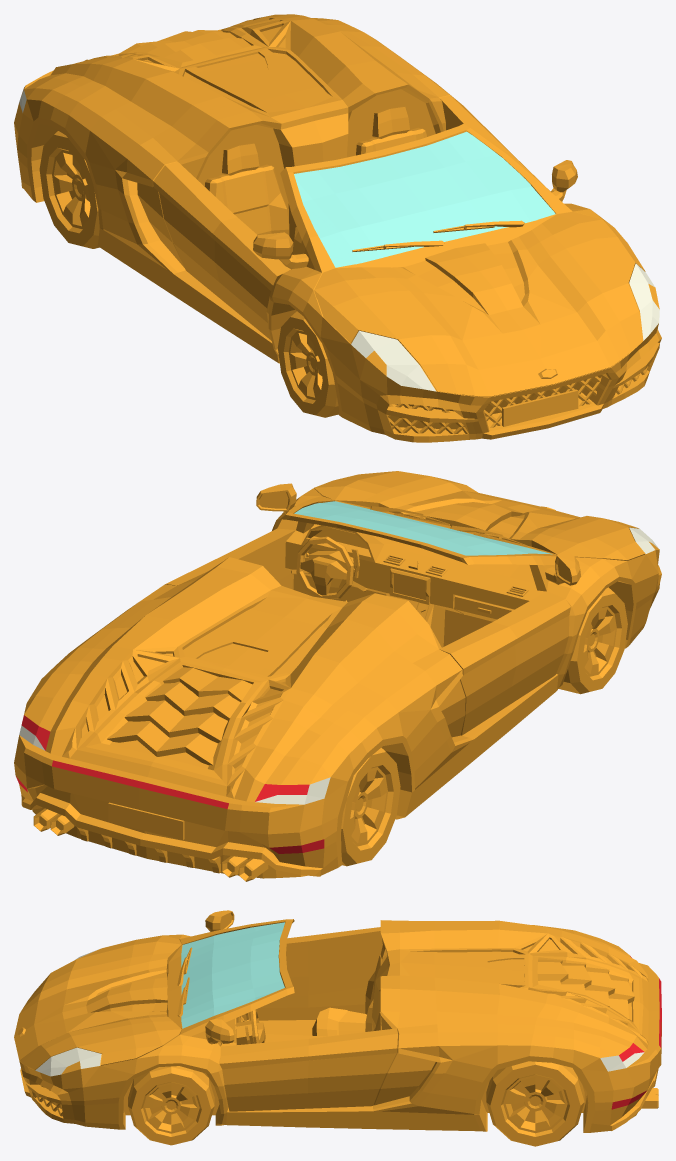
The model's file is SM_Car_Roadster_Cabrio_Modern.fbx.
The picture shows the model from 3 angles, top to bottom: view 1: azimuth 30°, elevation 25°; view 2: azimuth 150°, elevation 25°; view 3: azimuth 270°, elevation 25°; orthographic projection. The views are drawn at different scales.
Parts seen in each view (by area): view 1: roadster-cabrio-modern-base, roadster-cabrio-modern-trunk, roadster-cabrio-modern-door-right, roadster-cabrio-modern-wheel-rba, roadster-cabrio-modern-wheel-rfr, roadster-cabrio-modern-door-left; view 2: roadster-cabrio-modern-base, roadster-cabrio-modern-trunk, roadster-cabrio-modern-door-right, roadster-cabrio-modern-wheel-rba, roadster-cabrio-modern-wheel-rfr, roadster-cabrio-modern-door-left, roadster-cabrio-modern-steering-wheel; view 3: roadster-cabrio-modern-base, roadster-cabrio-modern-trunk, roadster-cabrio-modern-door-left, roadster-cabrio-modern-wheel-lba, roadster-cabrio-modern-door-right, roadster-cabrio-modern-wheel-lfr, roadster-cabrio-modern-steering-wheel.
Boxes of the visible parts, <box> form: roadster-cabrio-modern-base: <box>14,14,661,442</box>; roadster-cabrio-modern-trunk: <box>314,211,645,396</box>; roadster-cabrio-modern-door-right: <box>153,161,290,340</box>; roadster-cabrio-modern-wheel-rba: <box>39,131,99,248</box>; roadster-cabrio-modern-wheel-rfr: <box>277,311,338,417</box>; roadster-cabrio-modern-door-left: <box>439,95,550,191</box>; roadster-cabrio-modern-base: <box>14,471,661,881</box>; roadster-cabrio-modern-trunk: <box>314,471,645,560</box>; roadster-cabrio-modern-door-right: <box>439,591,570,735</box>; roadster-cabrio-modern-wheel-rba: <box>341,747,400,866</box>; roadster-cabrio-modern-wheel-rfr: <box>558,587,627,694</box>; roadster-cabrio-modern-door-left: <box>165,528,295,588</box>; roadster-cabrio-modern-steering-wheel: <box>296,536,353,599</box>; roadster-cabrio-modern-base: <box>19,910,661,1132</box>; roadster-cabrio-modern-trunk: <box>14,935,181,1069</box>; roadster-cabrio-modern-door-left: <box>219,1028,397,1111</box>; roadster-cabrio-modern-wheel-lba: <box>486,1061,584,1146</box>; roadster-cabrio-modern-door-right: <box>260,927,382,1007</box>; roadster-cabrio-modern-wheel-lfr: <box>128,1066,214,1145</box>; roadster-cabrio-modern-steering-wheel: <box>250,1009,265,1043</box>.
Size of the model in its own units: 2.33 by 1.23 by 5.19.
